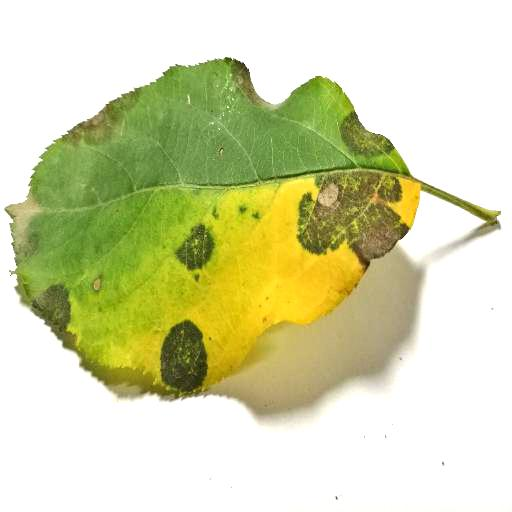Brown_Spot: (294, 177, 405, 271), (41, 94, 141, 142), (164, 327, 207, 392), (175, 224, 211, 278), (228, 62, 273, 105), (36, 293, 73, 343), (340, 116, 388, 154)
